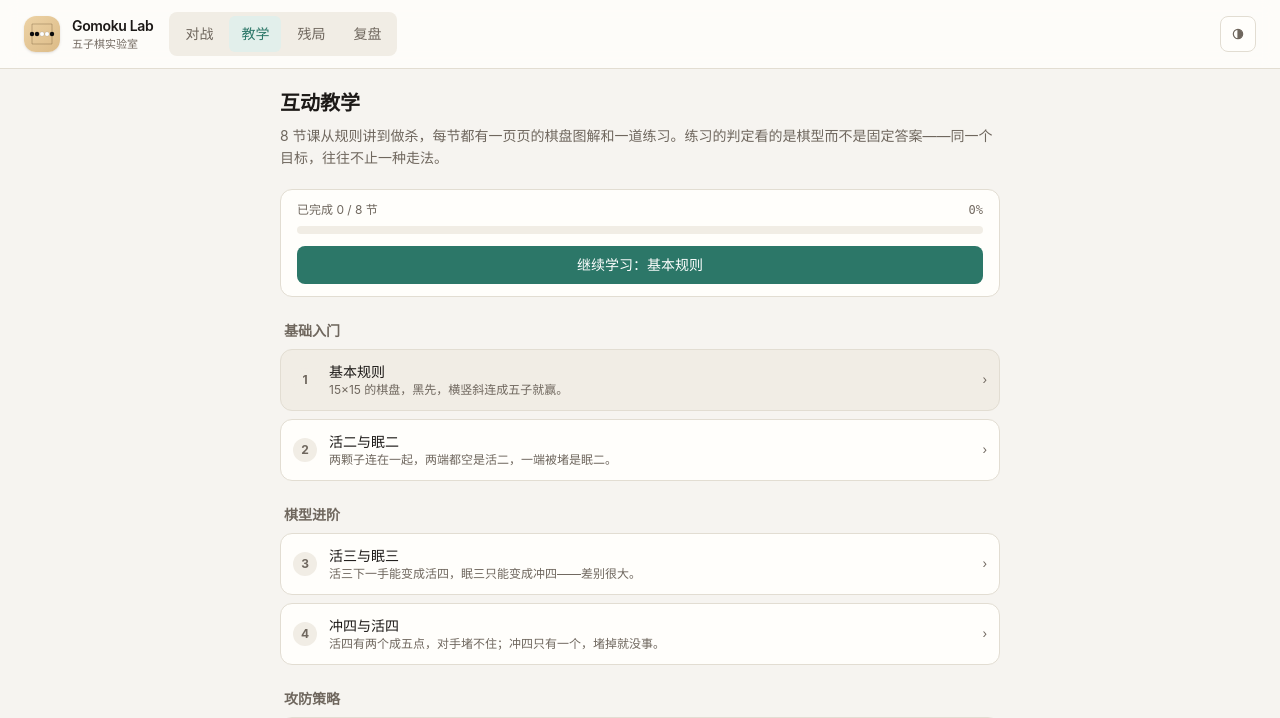
Test: 详情页的地标 › 课程内页也有 main：讲解与练习都得包在里头
The width and height of the screenshot is (1280, 718).
Click the button with test id "lesson-rules": (357, 372) [280, 349, 1000, 411]
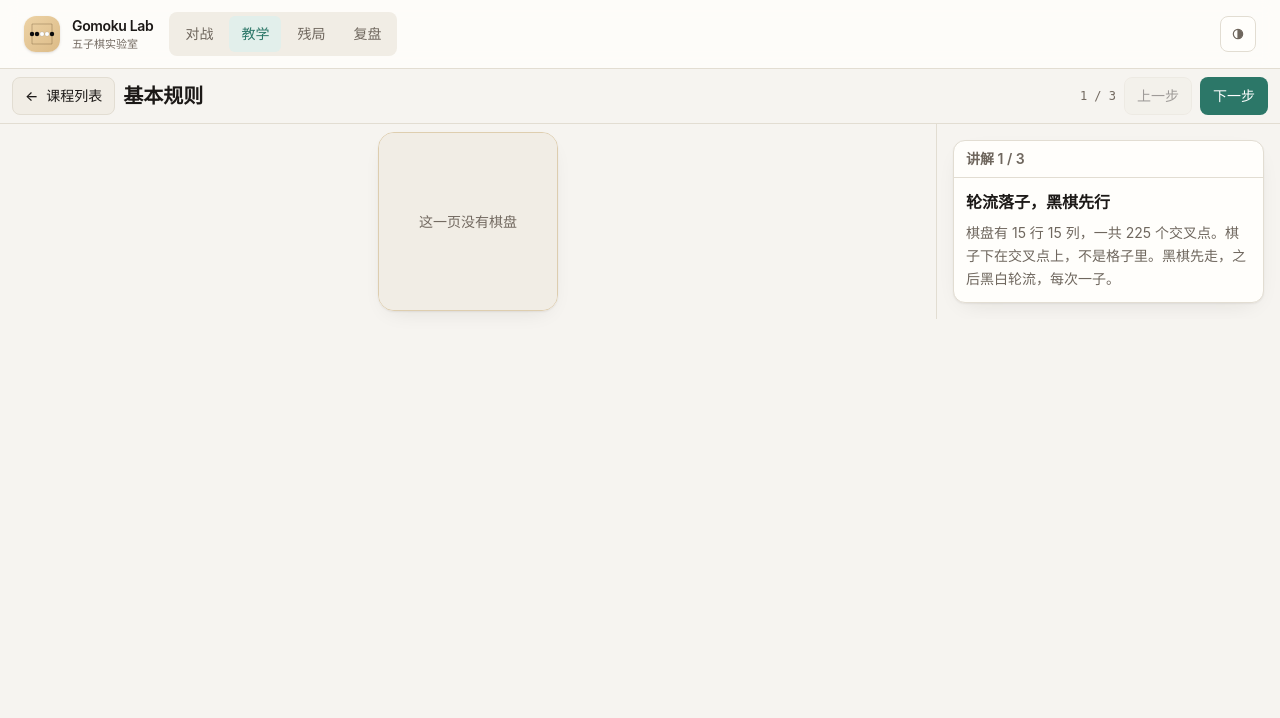
Check: the element that starts with "这一页没有棋盘" is shown, box [378, 124, 1279, 319]
